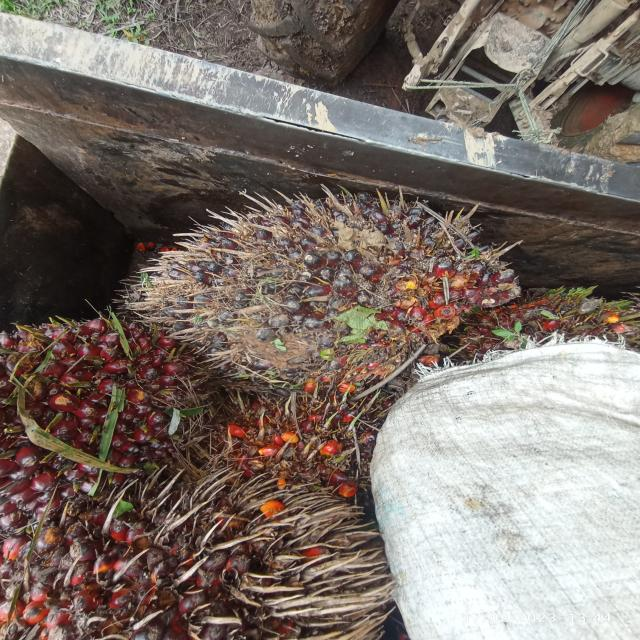fraksi 00: (98, 139, 563, 413)
fraksi 3: (0, 471, 362, 640), (0, 300, 222, 474)
